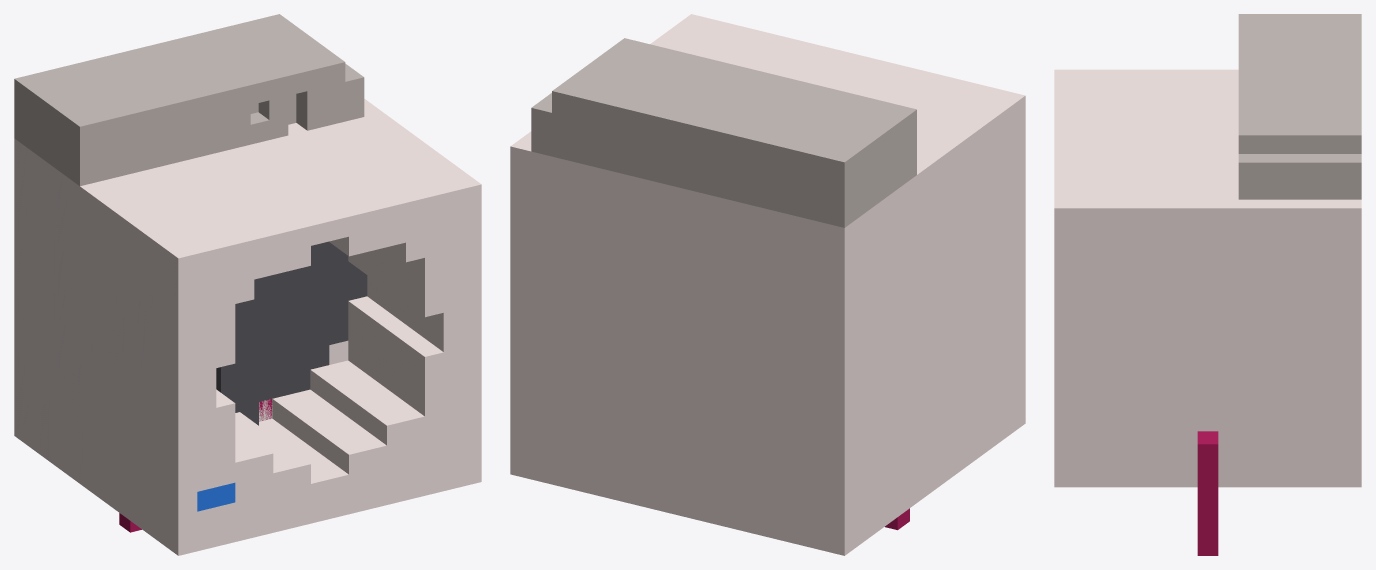
The model's file is washingmachine.glb.
3 renders of one model, left to right at view 1: azimuth 30°, elevation 25°; view 2: azimuth 150°, elevation 25°; view 3: azimuth 270°, elevation 25°, orthographic. The views are drawn at different scales.
Parts seen in each view (by area): view 1: base, fix-top, circle-12, bluebutton; view 2: base, fix-top; view 3: base, glasses, fix-top.
Part boxes in pixels (<box>): base: <box>14,14,481,555</box>; fix-top: <box>167,191,481,396</box>; circle-12: <box>216,278,258,425</box>; bluebutton: <box>197,482,235,511</box>; base: <box>510,14,1025,555</box>; fix-top: <box>744,29,1025,250</box>; base: <box>1054,14,1361,487</box>; glasses: <box>1197,431,1218,555</box>; fix-top: <box>1054,69,1074,325</box>.
Size of the model in its own units: 17.5 by 21 by 15.
16 materials, 16 textured.
